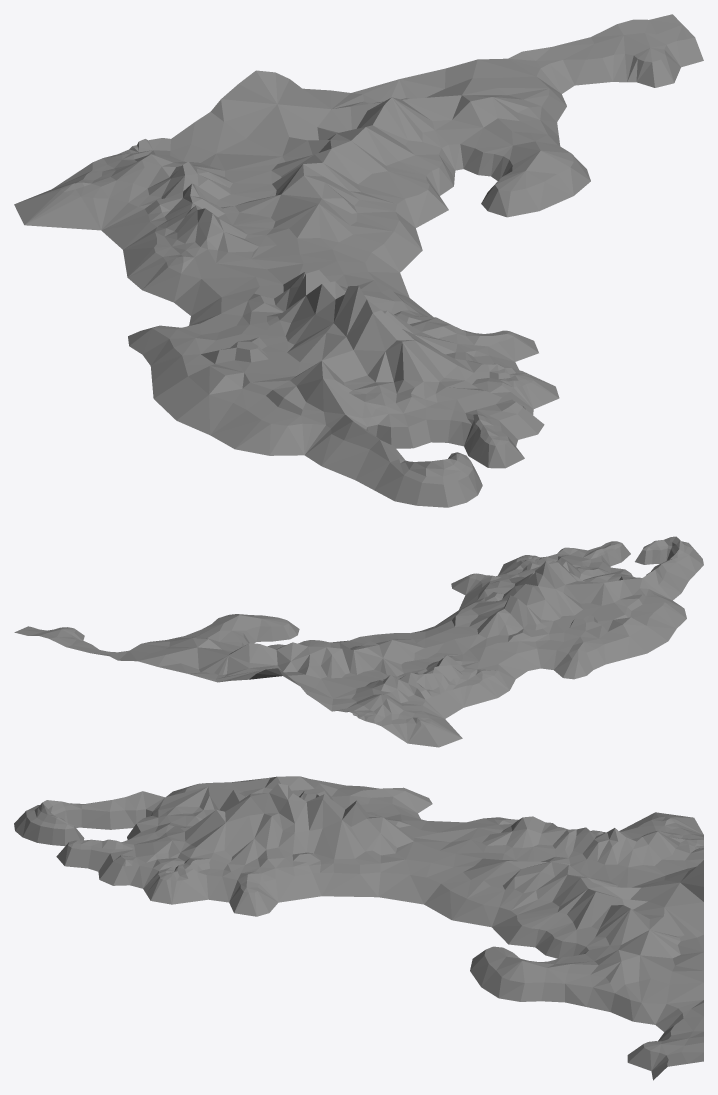
File: Prospect_02.fbx
The picture shows the model from 3 angles, top to bottom: view 1: azimuth 30°, elevation 25°; view 2: azimuth 150°, elevation 25°; view 3: azimuth 270°, elevation 25°; orthographic projection. The views are drawn at different scales.
Parts seen in each view (by area): view 1: Prospect_02; view 2: Prospect_02; view 3: Prospect_02.
Boxes of the visible parts, <box> form: Prospect_02: <box>14,14,703,507</box>; Prospect_02: <box>14,536,703,747</box>; Prospect_02: <box>14,776,703,1080</box>.
Size of the model in its own units: 37511 by 3991 by 36159.
